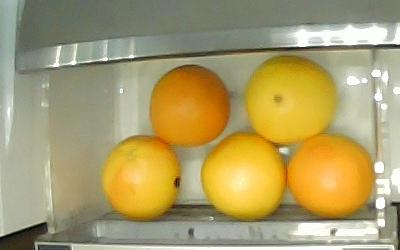grapefruit: (243, 54, 337, 144), (199, 129, 286, 219), (285, 132, 373, 217), (99, 134, 180, 219), (149, 63, 230, 146)
